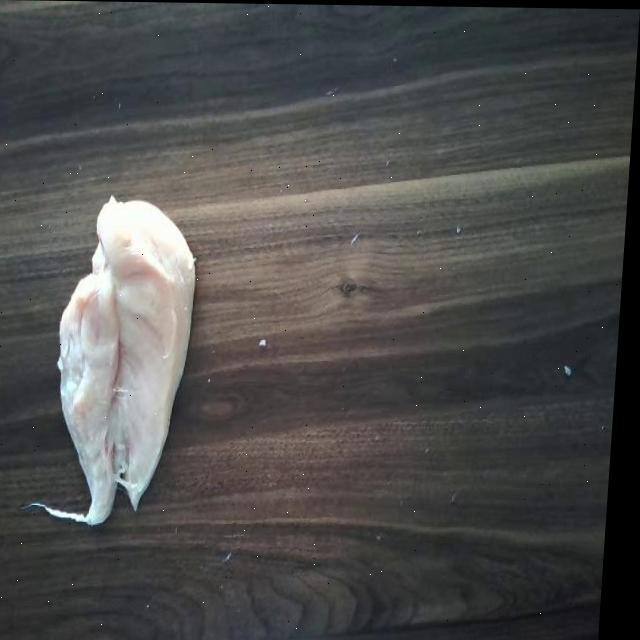breast: (62, 197, 201, 520)
